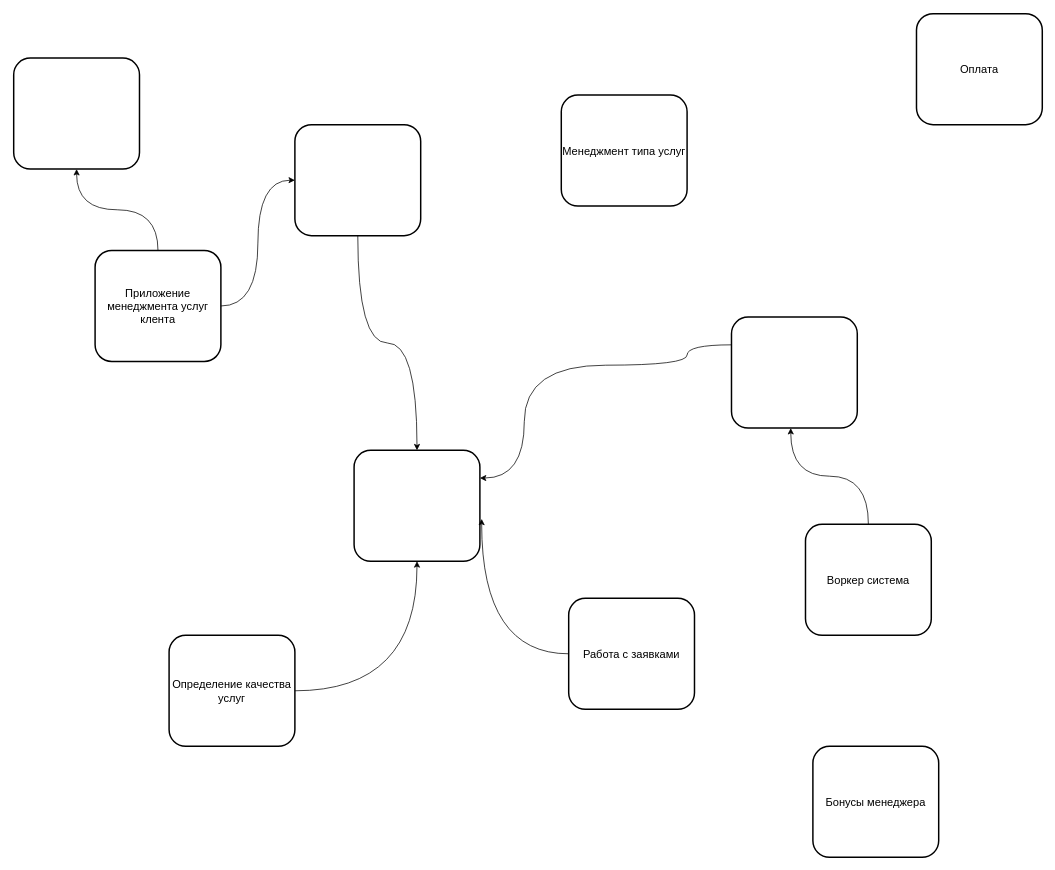
The diagram is 1055 pixels wide and 870 high, and some of its shapes have lost their labels. The box of each missing label's shape, as (x1, y1, x2, y2) in pixels:
Нотификации: (353, 449, 480, 562)
Расчет стоимости услуг: (294, 124, 421, 236)
Сбор заказа воркером отдела расходников: (730, 316, 858, 428)
Ставки: (13, 57, 140, 169)
